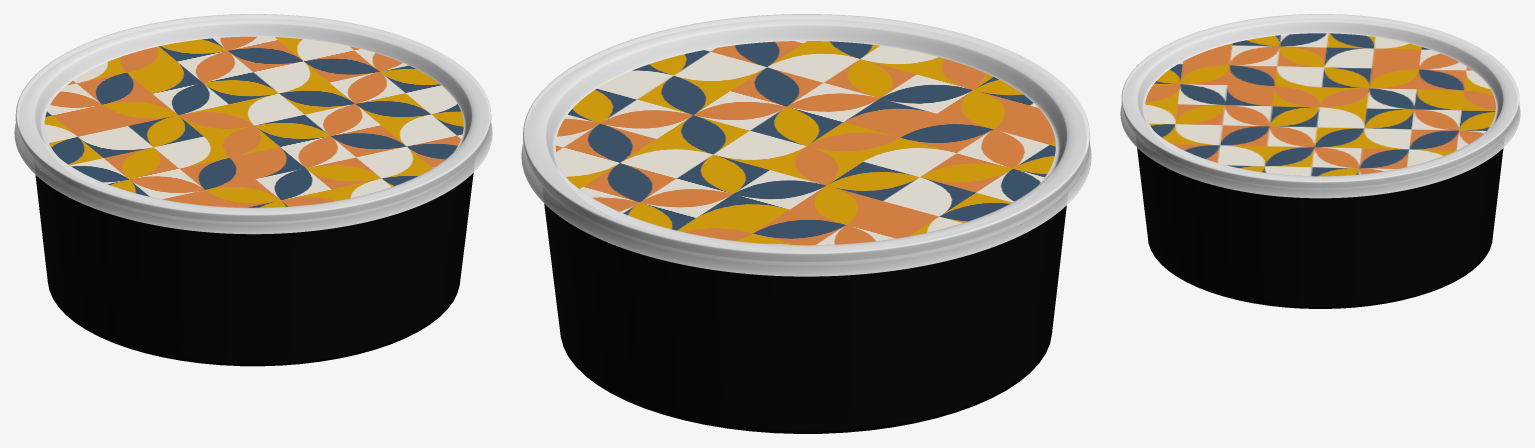
Rendered from 750ml_round.glb.
3 views of the same model, side by side, from view 1: azimuth 30°, elevation 25°; view 2: azimuth 150°, elevation 25°; view 3: azimuth 270°, elevation 25° (orthographic). The views are drawn at different scales.
Visible parts, largest first — view 1: label, Cylinder, top; view 2: label, Cylinder, top; view 3: label, Cylinder, top.
Part boxes in pixels (x1,y1,x2,y2): label: [44, 36, 463, 207]; Cylinder: [35, 172, 473, 366]; top: [14, 14, 492, 234]; label: [555, 41, 1055, 244]; Cylinder: [544, 203, 1066, 433]; top: [521, 14, 1091, 276]; label: [1145, 33, 1495, 176]; Cylinder: [1137, 147, 1503, 308]; top: [1120, 14, 1520, 198].
Size of the model in its own units: 0.1501 by 0.1098 by 0.1501.
5 materials, 3 textured.
